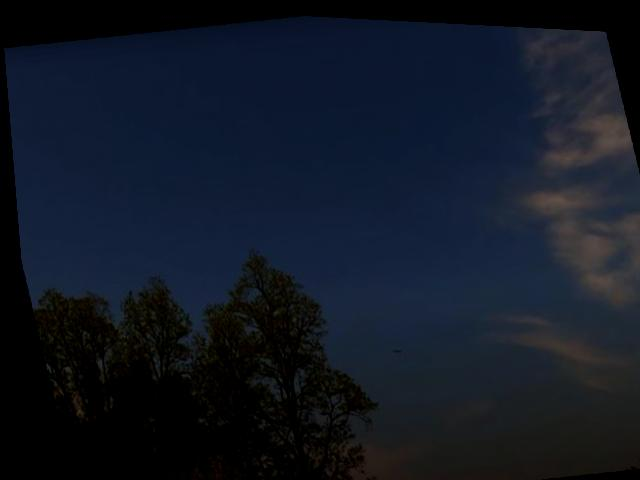iha: (386, 343, 397, 351)
